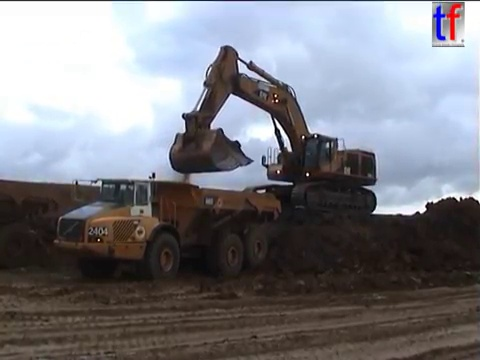excavator: (166, 43, 381, 216)
truck: (50, 170, 284, 281), (1, 176, 150, 273)
